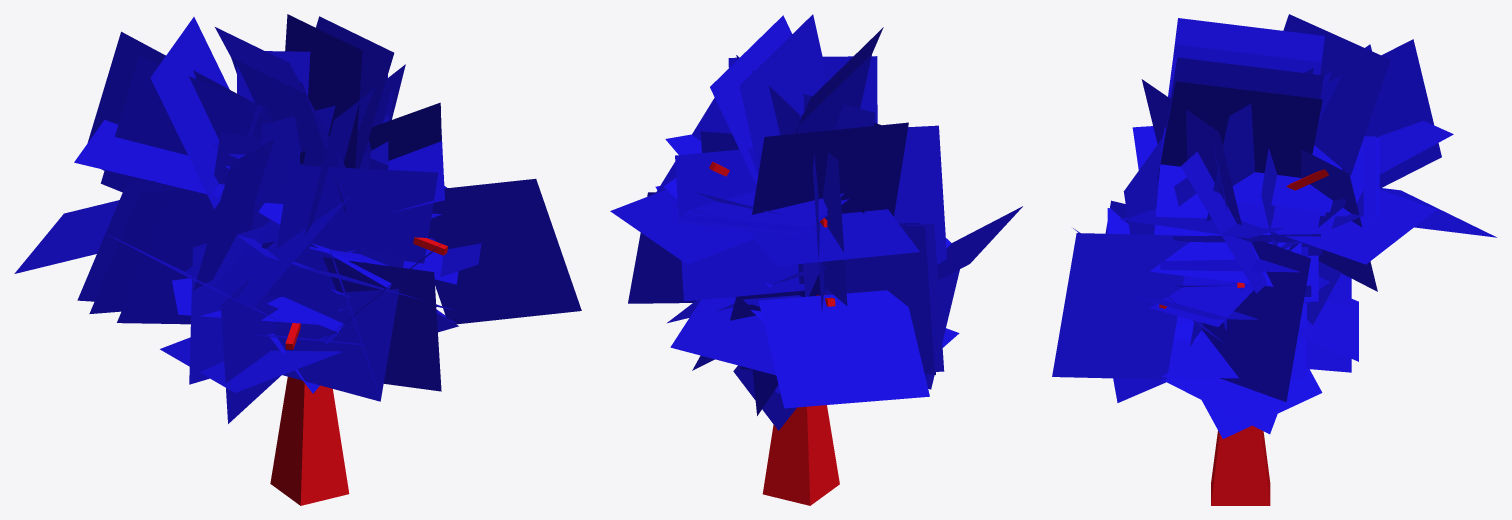
File: Tree2.fbx
3 views of the same model, side by side, from view 1: azimuth 30°, elevation 25°; view 2: azimuth 150°, elevation 25°; view 3: azimuth 270°, elevation 25° (orthographic). The views are drawn at different scales.
Parts seen in each view (by area): view 1: Leaves, TreeBark; view 2: Leaves, TreeBark; view 3: Leaves, TreeBark.
Boxes of the visible parts, x1,y1,x2,y2 form: Leaves: [14, 14, 581, 423]; TreeBark: [270, 237, 447, 505]; Leaves: [610, 14, 1022, 430]; TreeBark: [709, 161, 839, 505]; Leaves: [1052, 14, 1496, 438]; TreeBark: [1159, 169, 1328, 505].
Size of the model in its own units: 2962 by 3360 by 3007.
